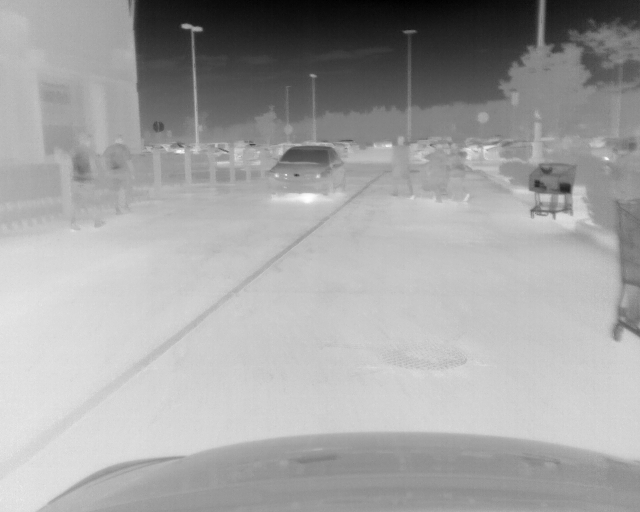car: (264, 145, 347, 199), (445, 143, 469, 202)
people: (67, 131, 104, 233), (104, 135, 133, 216), (390, 135, 416, 200), (550, 132, 570, 214), (423, 143, 446, 200)
